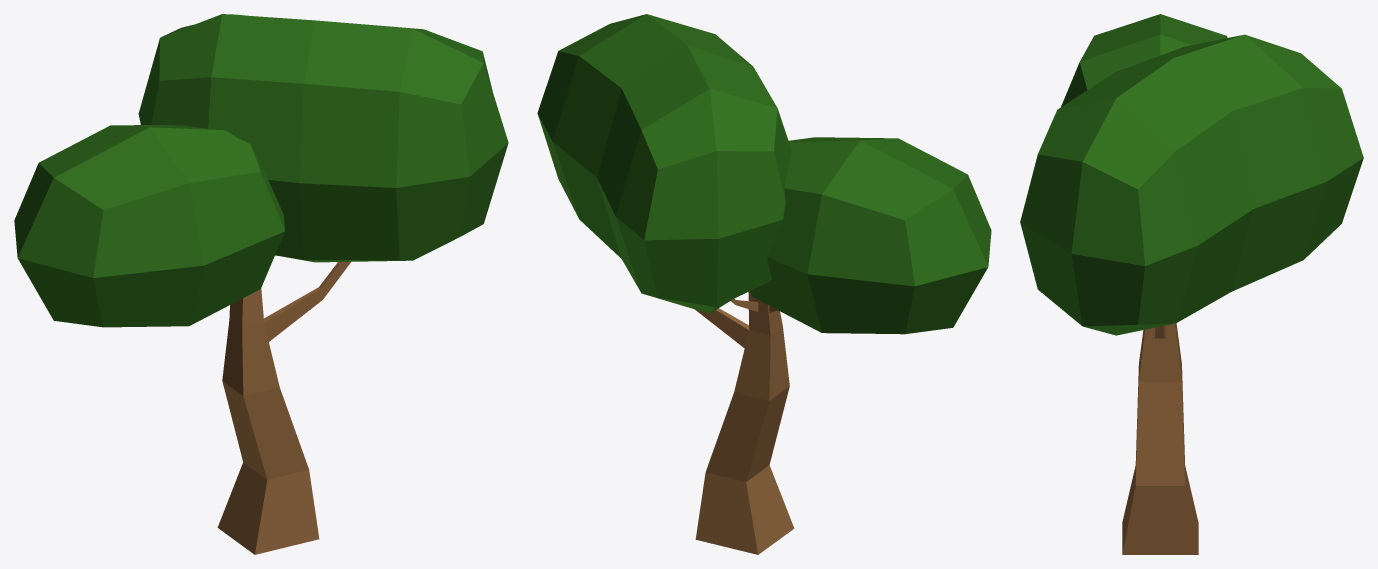
Rendered from tree.fbx.
3 renders of one model, left to right at view 1: azimuth 30°, elevation 25°; view 2: azimuth 150°, elevation 25°; view 3: azimuth 270°, elevation 25°, orthographic. The views are drawn at different scales.
Visible parts, largest first — view 1: Cube.002; view 2: Cube.002; view 3: Cube.002.
Boxes of the visible parts, x1=… form: Cube.002: x1=14, y1=14, x2=508, y2=554; Cube.002: x1=537, y1=14, x2=991, y2=554; Cube.002: x1=1020, y1=14, x2=1363, y2=554.
Size of the model in its own units: 193 by 193 by 119.
